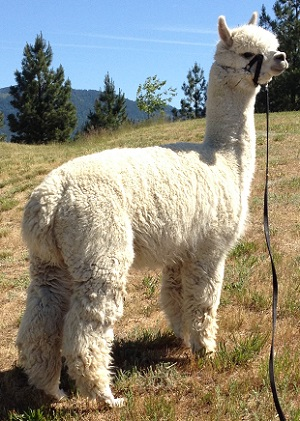alpaca: (17, 9, 289, 408)
